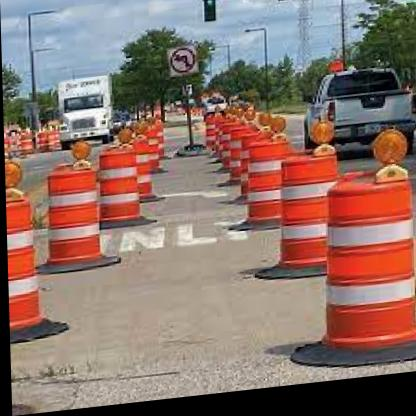obstacle: (323, 177, 416, 366), (278, 157, 325, 283), (45, 164, 101, 268), (94, 147, 141, 227)
